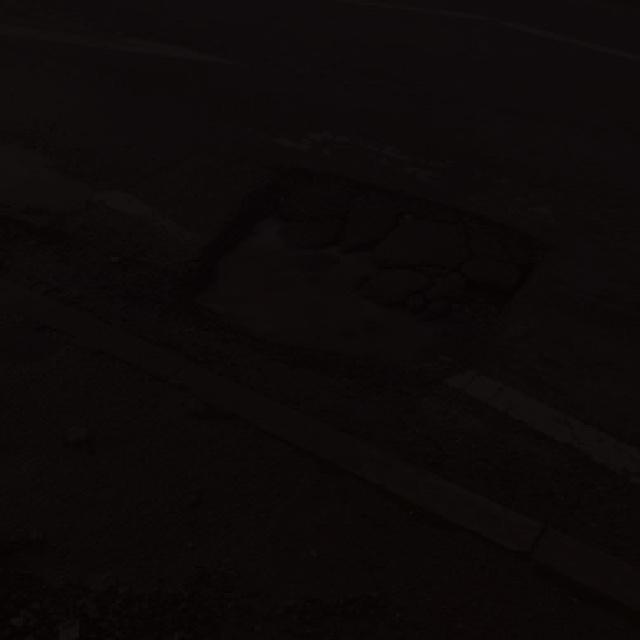Pothole: (180, 158, 552, 391)
